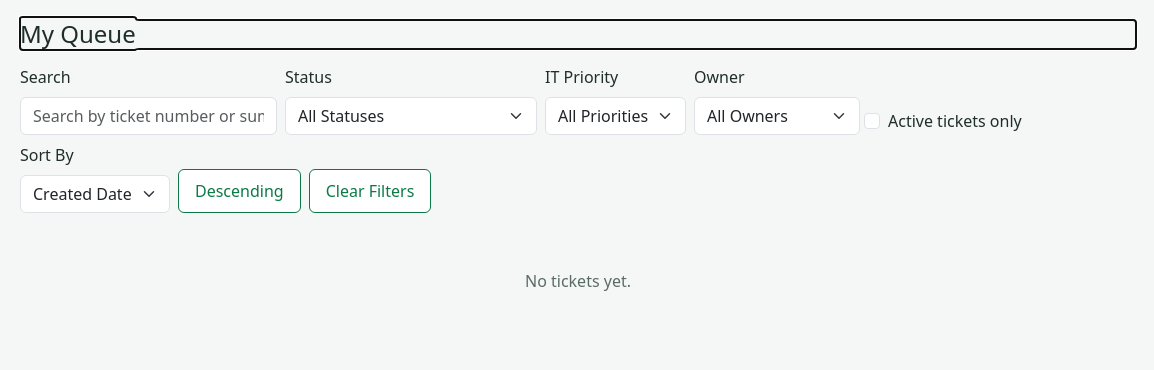
Test case: StaffTicketQueue › empty state with an active filter shows Clear Filters, without a filter shows the plain empty message
This screenshot has width=1154, height=370.
Expected: the element with test id "staff-queue-empty-state" is shown, [525,270,631,292]
Step 1. Type "nonexistent" into the field labelled "Search" → [148, 116], box [20,97,277,135]
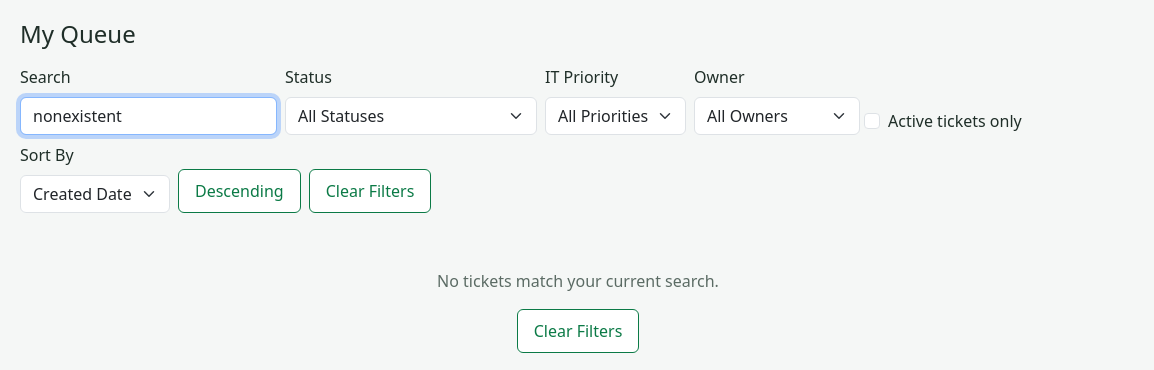
Now the element with test id "staff-queue-no-results" is shown, box [437,270,719,353]
